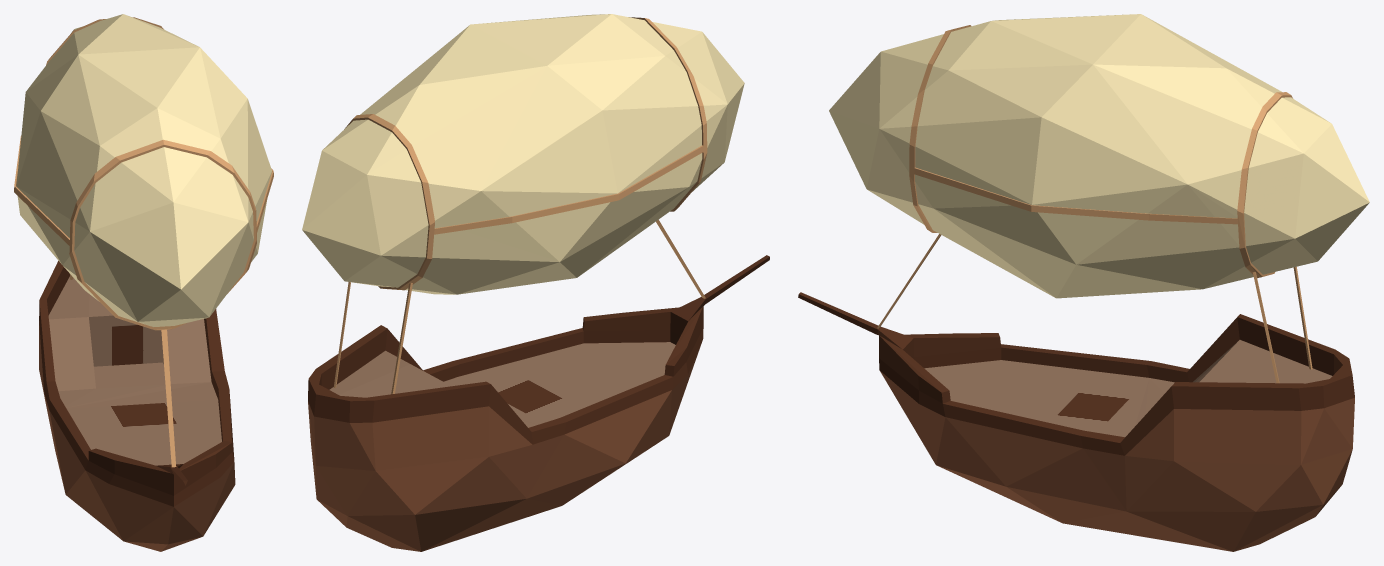
File: Low_Poly_Airship.glb
3 renders of one model, left to right at view 1: azimuth 30°, elevation 25°; view 2: azimuth 150°, elevation 25°; view 3: azimuth 270°, elevation 25°, orthographic. The views are drawn at different scales.
Visible parts, largest first — view 1: ship_0; view 2: ship_0; view 3: ship_0.
Part boxes in pixels (box(x1,y1,x2,y2)): ship_0: box(14, 14, 273, 551); ship_0: box(302, 14, 769, 551); ship_0: box(798, 14, 1369, 551).
Bounding box in the file's own units: 3.28 × 5.87 × 6.21.
Materials: 1 (1 with a texture image).
